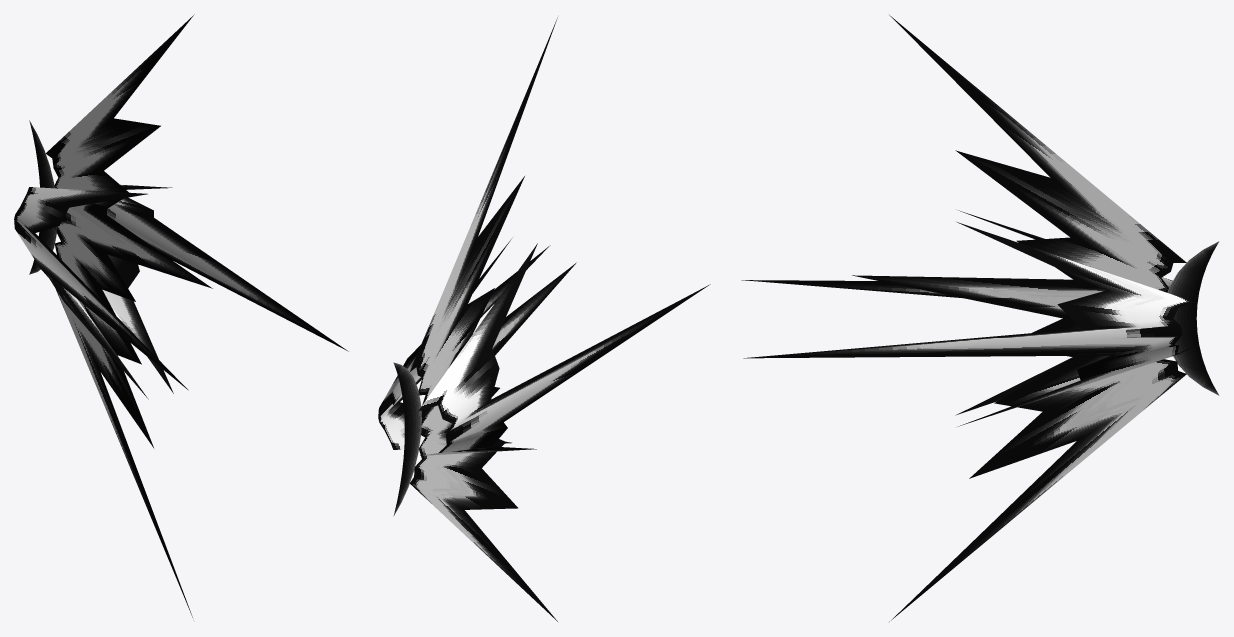
File: EffCommonHitNormalShockWave.obj
3 views of the same model, side by side, from view 1: azimuth 30°, elevation 25°; view 2: azimuth 150°, elevation 25°; view 3: azimuth 270°, elevation 25° (orthographic).
Parts seen in each view (by area): view 1: polygon2, polygon1, polygon0; view 2: polygon2, polygon1, polygon0; view 3: polygon2, polygon1, polygon0.
Boxes of the visible parts, bbox=[...] form: polygon2: bbox=[46, 14, 212, 617]; polygon1: bbox=[14, 181, 348, 399]; polygon0: bbox=[29, 120, 57, 274]; polygon2: bbox=[410, 17, 576, 621]; polygon1: bbox=[378, 239, 710, 455]; polygon0: bbox=[393, 362, 421, 516]; polygon2: bbox=[852, 15, 1186, 621]; polygon1: bbox=[741, 210, 1194, 426]; polygon0: bbox=[1167, 241, 1219, 395].
Size of the model in its own units: 25.97 by 94.24 by 67.23.
3 materials, 3 textured.
